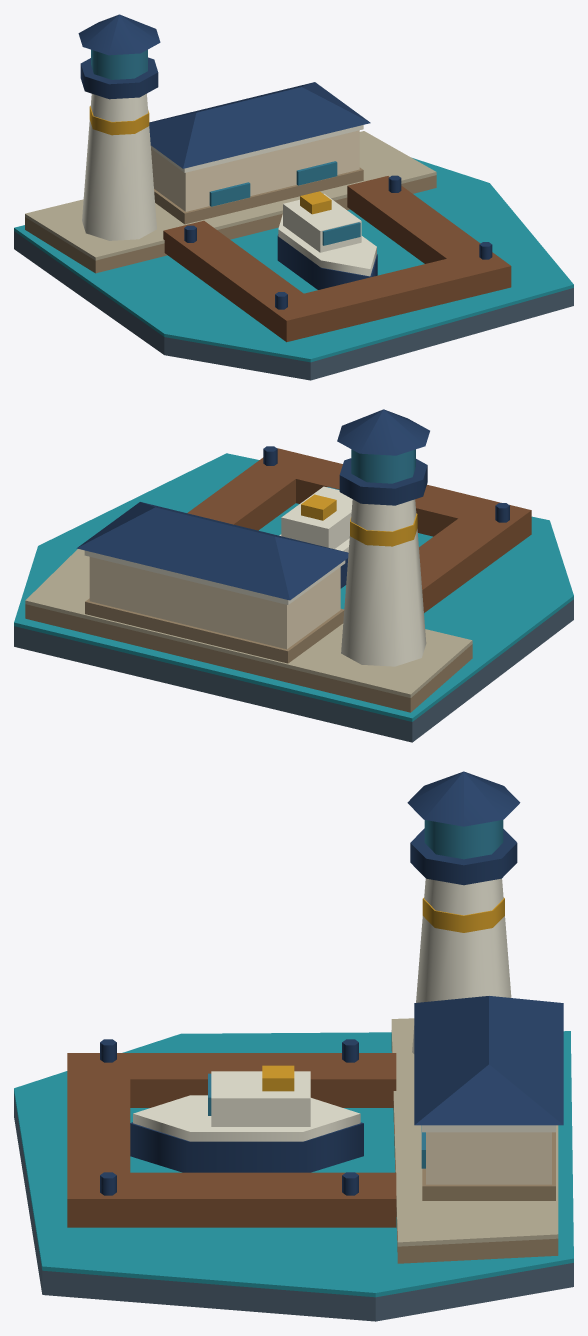
The model's file is port-lv1.glb.
3 renders of one model, top to bottom at view 1: azimuth 30°, elevation 25°; view 2: azimuth 150°, elevation 25°; view 3: azimuth 270°, elevation 25°, orthographic. The views are drawn at different scales.
Parts seen in each view (by area): view 1: foundation_water, pier_wood, foundation_slate, warehouse_roof_naval, lighthouse_white, quay_paving, warehouse_cream, vessel_white, quay_stoneDark, warehouse_stoneDark, lighthouse_roof_naval, lantern_balcony_naval (+8 smaller); view 2: foundation_water, pier_wood, warehouse_roof_naval, foundation_slate, warehouse_cream, lighthouse_white, quay_paving, quay_stoneDark, warehouse_stoneDark, lighthouse_roof_naval, vessel_white, lantern_balcony_naval (+5 smaller); view 3: foundation_water, pier_wood, warehouse_roof_naval, foundation_slate, quay_paving, vessel_white, lighthouse_white, vessel_naval, warehouse_cream, lighthouse_roof_naval, lantern_balcony_naval, quay_stoneDark (+6 smaller).
Part boxes in pixels (<box>): foundation_water: <box>14,157,573,362</box>; pier_wood: <box>163,176,511,342</box>; foundation_slate: <box>14,231,573,380</box>; warehouse_roof_naval: <box>149,82,370,168</box>; lighthouse_white: <box>82,93,156,240</box>; quay_paving: <box>25,131,436,260</box>; warehouse_cream: <box>151,130,359,211</box>; vessel_white: <box>278,193,376,276</box>; quay_stoneDark: <box>25,175,436,273</box>; warehouse_stoneDark: <box>154,167,363,224</box>; lighthouse_roof_naval: <box>78,14,160,55</box>; lantern_balcony_naval: <box>80,57,158,99</box>; foundation_water: <box>14,453,573,721</box>; pier_wood: <box>187,448,531,612</box>; warehouse_roof_naval: <box>76,502,348,600</box>; foundation_slate: <box>14,599,573,742</box>; warehouse_cream: <box>89,557,340,649</box>; lighthouse_white: <box>341,499,426,666</box>; quay_paving: <box>25,549,472,697</box>; quay_stoneDark: <box>25,604,472,712</box>; warehouse_stoneDark: <box>85,598,344,663</box>; lighthouse_roof_naval: <box>337,409,429,455</box>; vessel_white: <box>279,486,352,552</box>; lantern_balcony_naval: <box>339,458,427,505</box>; foundation_water: <box>14,1031,573,1297</box>; pier_wood: <box>67,1053,396,1227</box>; warehouse_roof_naval: <box>414,996,563,1125</box>; foundation_slate: <box>14,1094,573,1321</box>; quay_paving: <box>391,1018,558,1246</box>; vessel_white: <box>133,1071,360,1141</box>; lighthouse_white: <box>412,878,511,1053</box>; vessel_naval: <box>130,1122,363,1172</box>; warehouse_cream: <box>426,1132,551,1184</box>; lighthouse_roof_naval: <box>407,771,520,826</box>; lantern_balcony_naval: <box>410,828,517,885</box>; quay_stoneDark: <box>391,1034,558,1263</box>.
Size of the model in its own units: 1 by 0.5888 by 0.9036.
